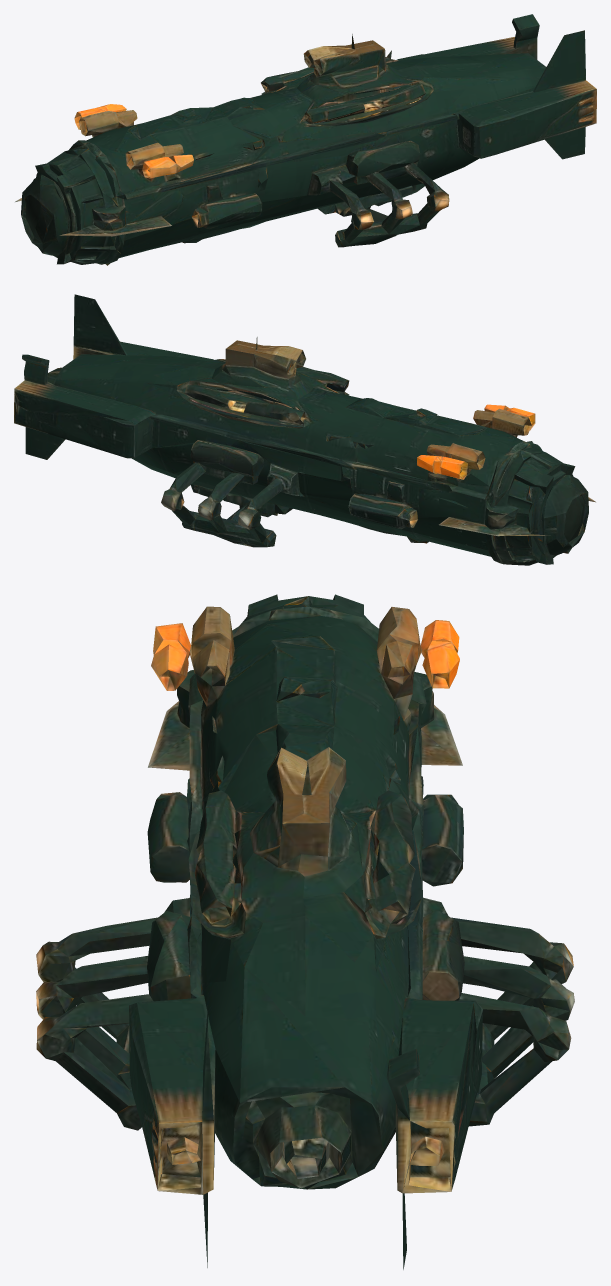
File: nation-j-cruiser.glb
The picture shows the model from 3 angles, top to bottom: view 1: azimuth 30°, elevation 25°; view 2: azimuth 150°, elevation 25°; view 3: azimuth 270°, elevation 25°; orthographic projection. The views are drawn at different scales.
Size of the model in its own units: 1.9 by 0.5928 by 0.8345.
Materials: 1 (1 with a texture image).
